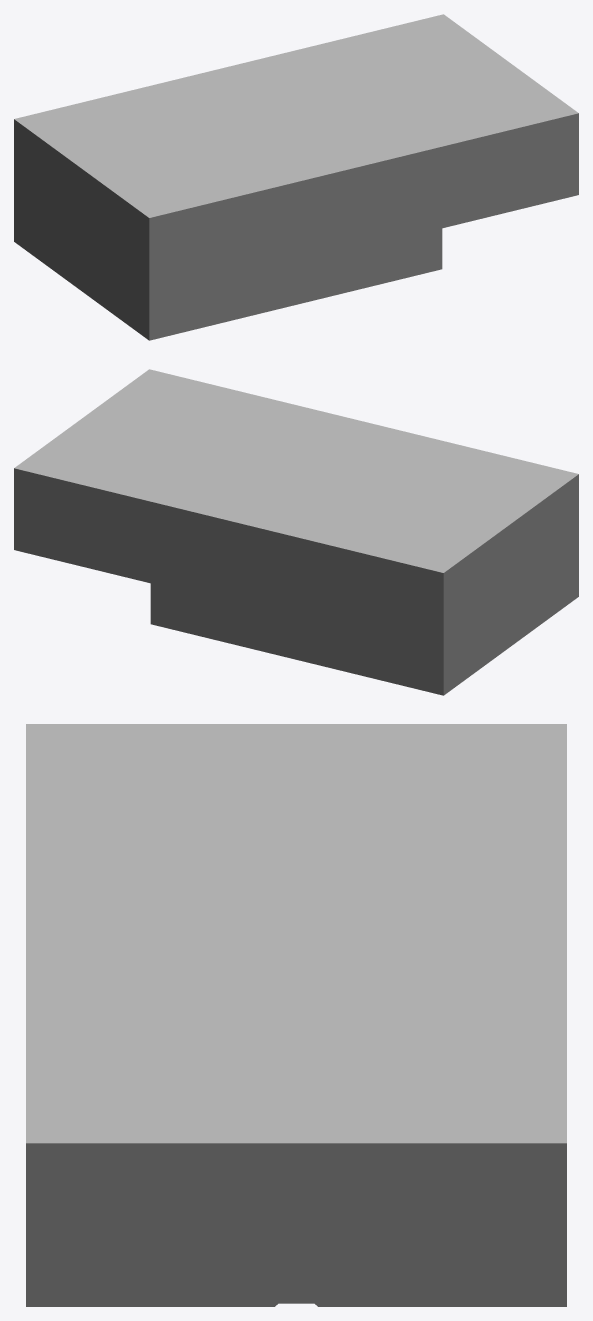
The model's file is level.gltf.
The picture shows the model from 3 angles, top to bottom: view 1: azimuth 30°, elevation 25°; view 2: azimuth 150°, elevation 25°; view 3: azimuth 270°, elevation 25°; orthographic projection. The views are drawn at different scales.
Parts seen in each view (by area): view 1: level; view 2: level; view 3: level.
Part boxes in pixels (left/top/right/bottom): level: left=14, top=14, right=578, bottom=340; level: left=14, top=369, right=578, bottom=695; level: left=26, top=724, right=566, bottom=1306.
Size of the model in its own units: 110 by 30 by 60.
Materials: 1 (1 with a texture image).
